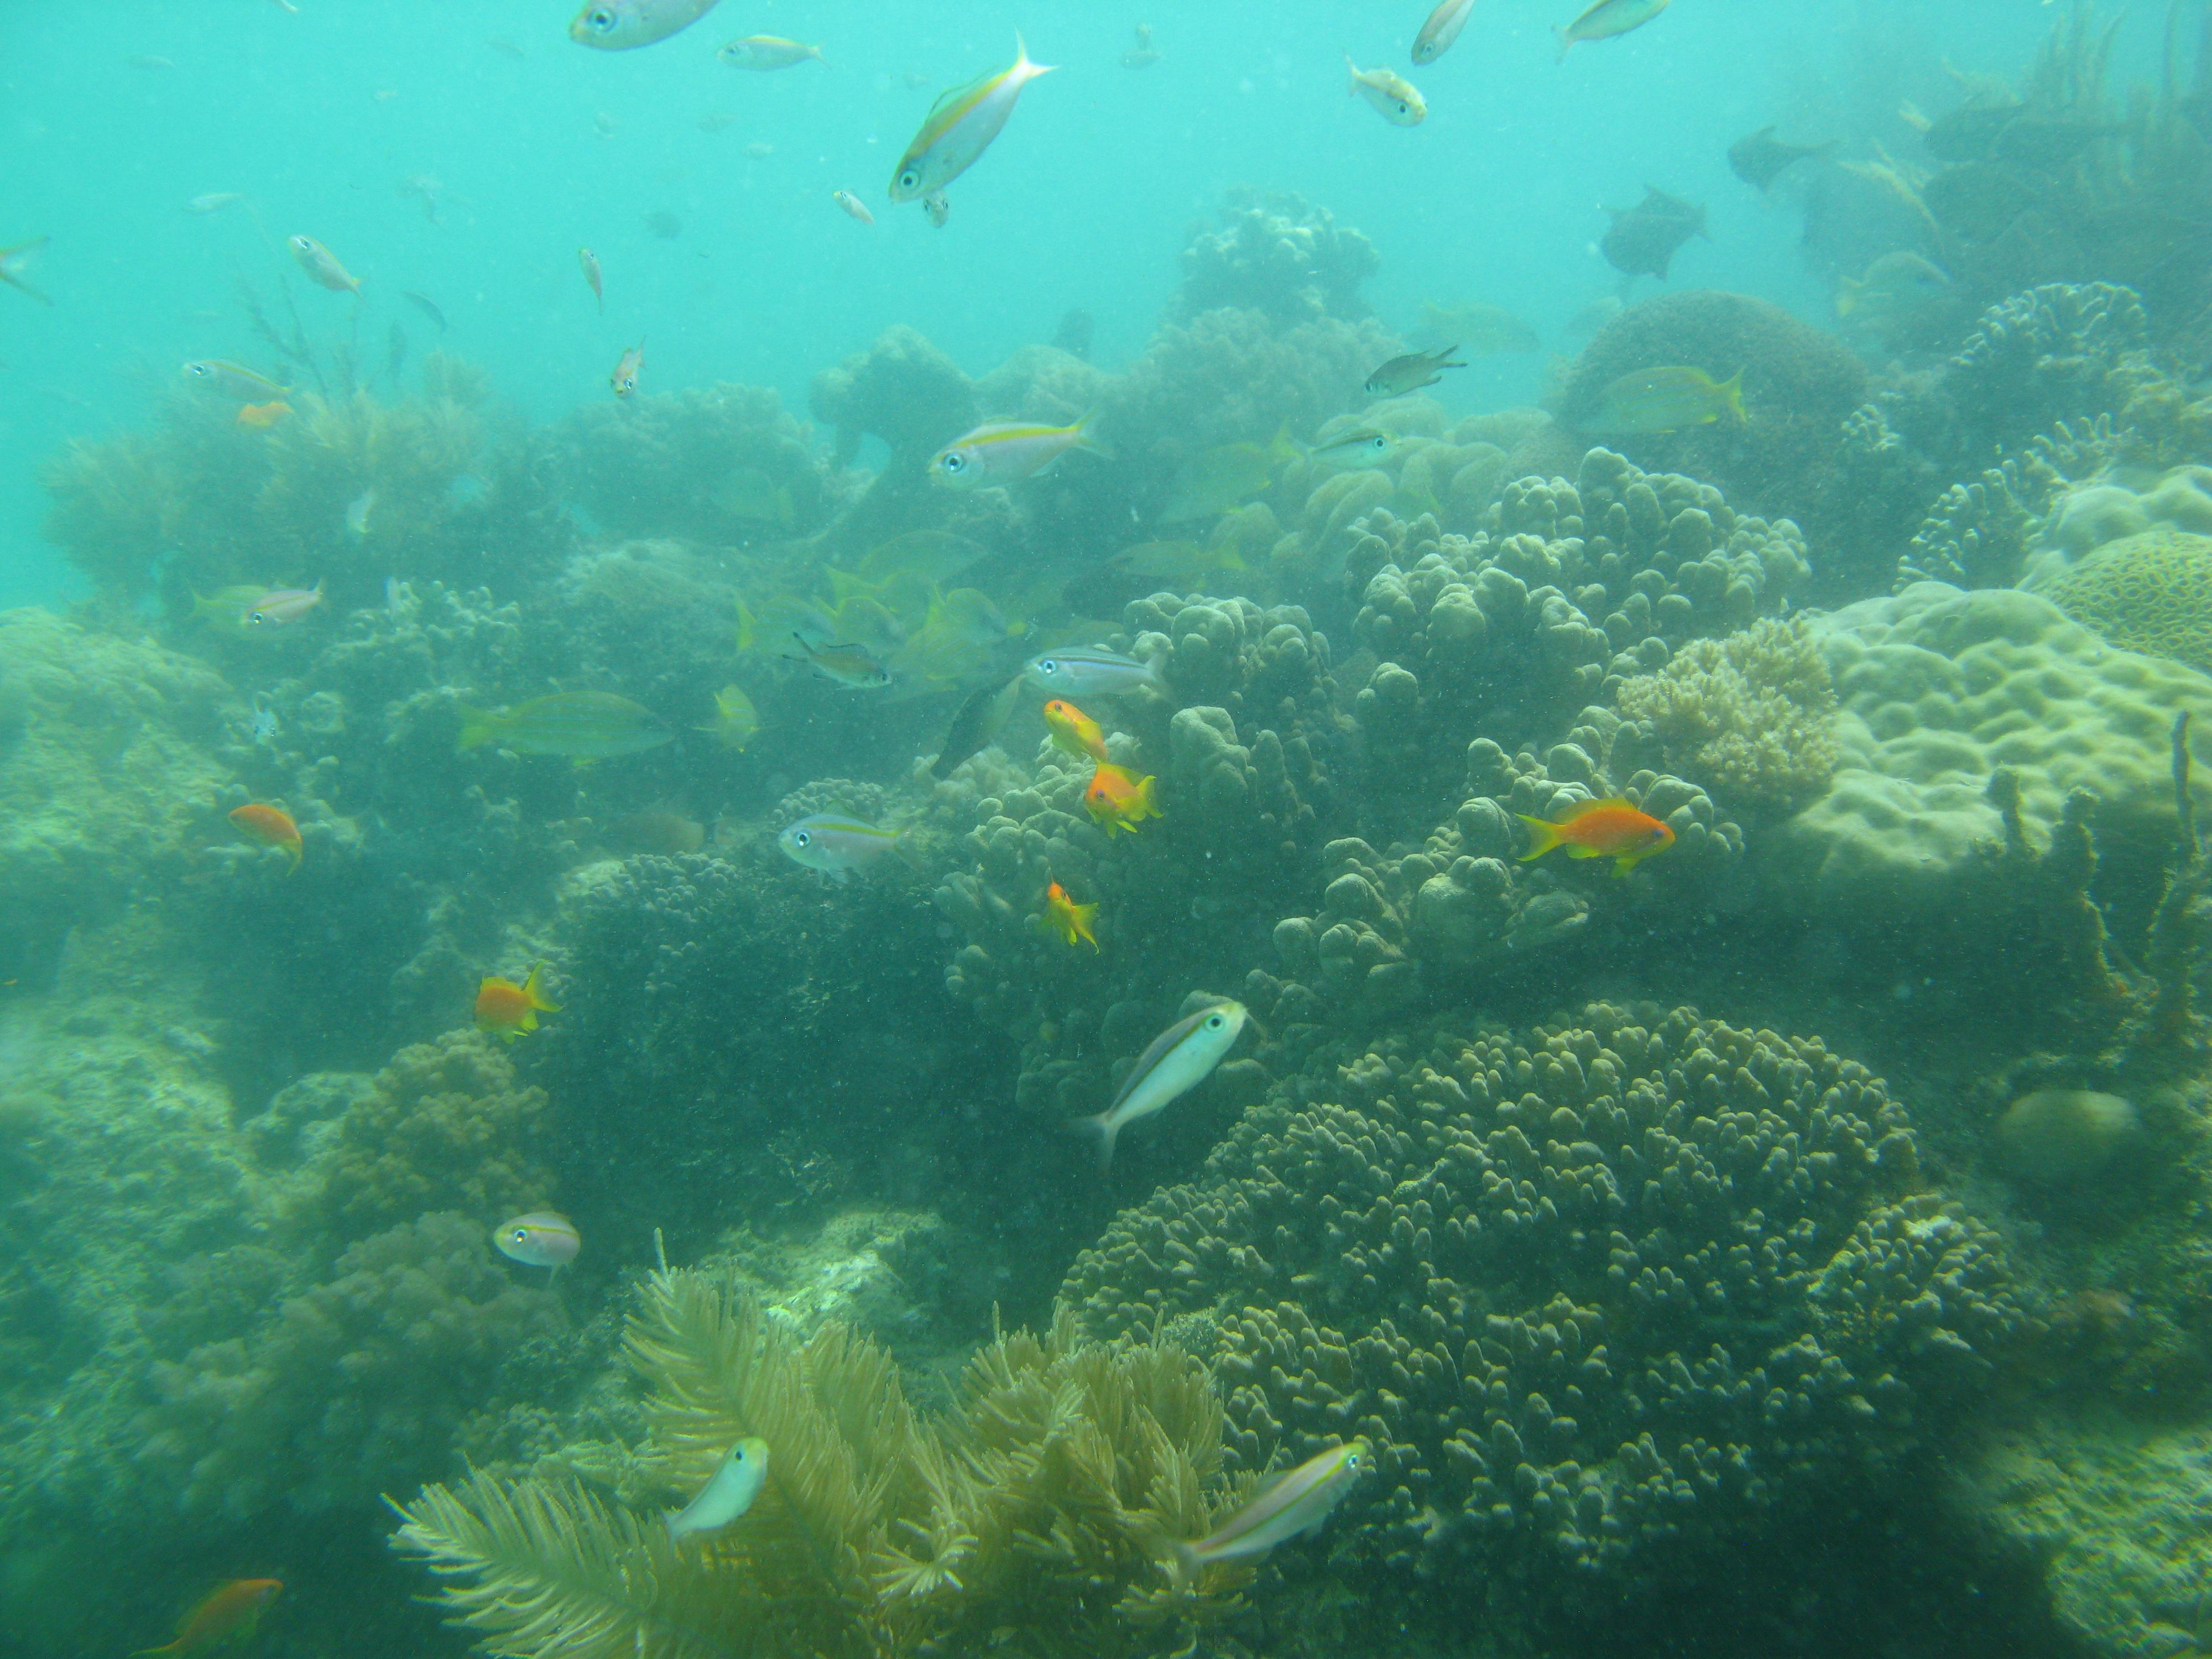Fish: (747, 28, 1211, 277), (878, 352, 1148, 556), (981, 622, 1205, 704), (772, 807, 918, 904), (1324, 51, 1430, 153)
